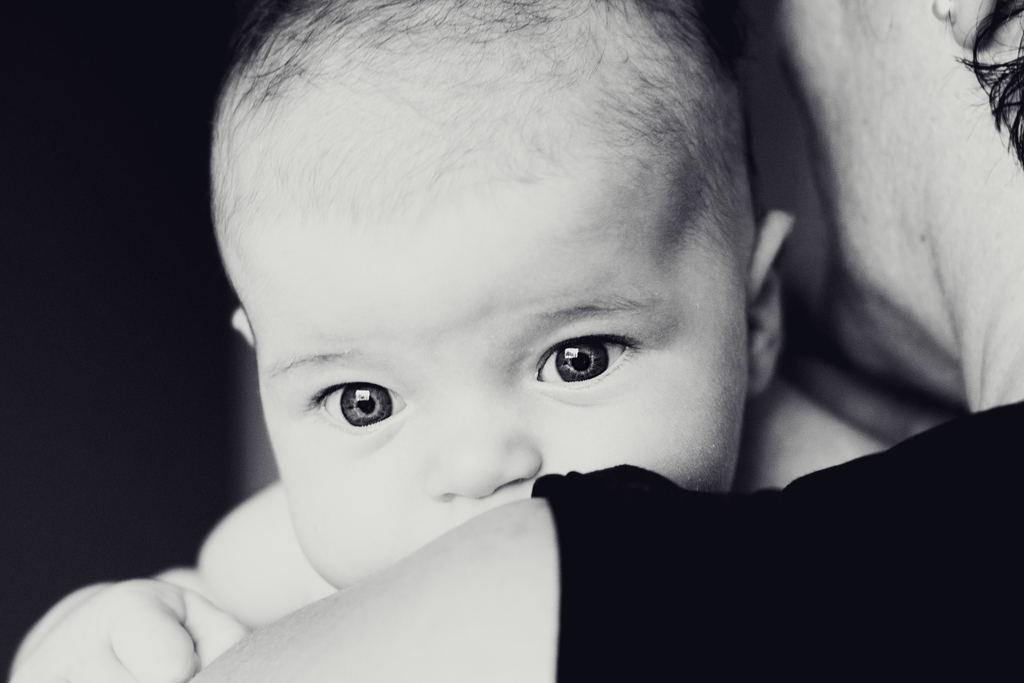Human_hand: (180, 498, 541, 682), (8, 576, 249, 682)
